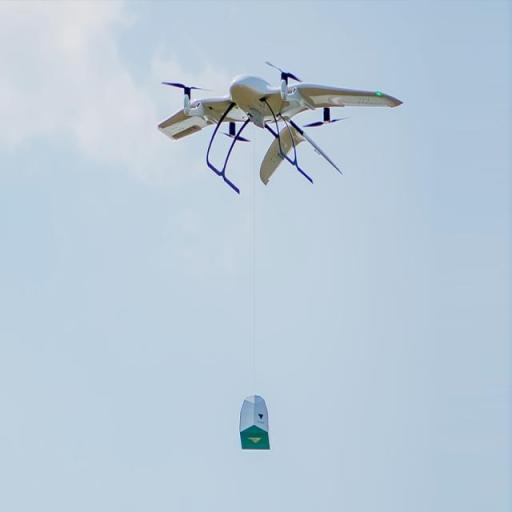uav: (152, 52, 402, 206)
